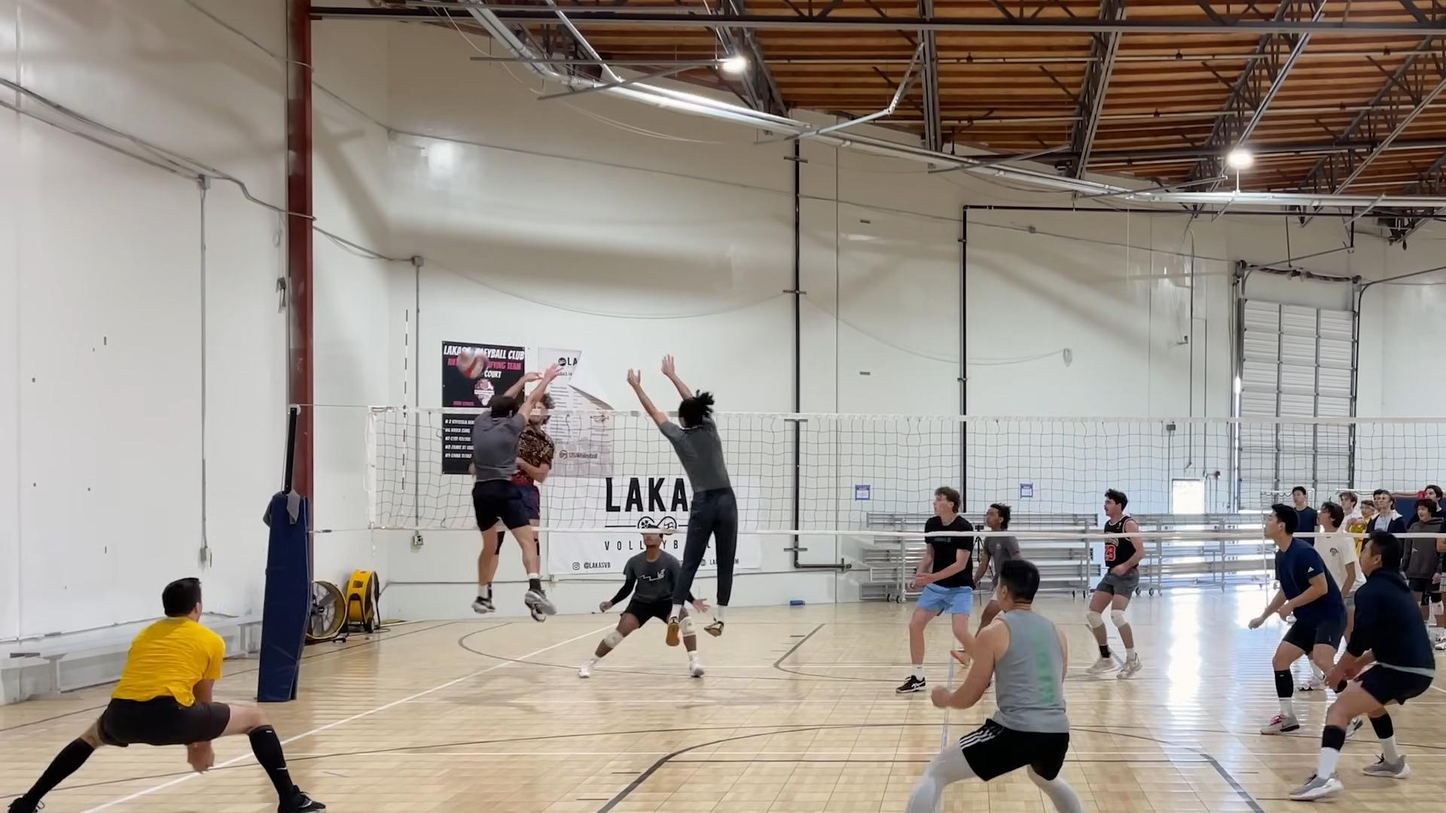Attack: (495, 389, 562, 581)
Block: (623, 348, 745, 646), (466, 358, 566, 621)
Player: (8, 580, 325, 812), (906, 559, 1083, 812), (1289, 531, 1434, 800), (1249, 504, 1345, 733), (896, 486, 974, 693), (578, 529, 681, 677), (1087, 490, 1144, 678), (1314, 502, 1359, 636), (975, 503, 1020, 629)
ball: (453, 345, 487, 380)
